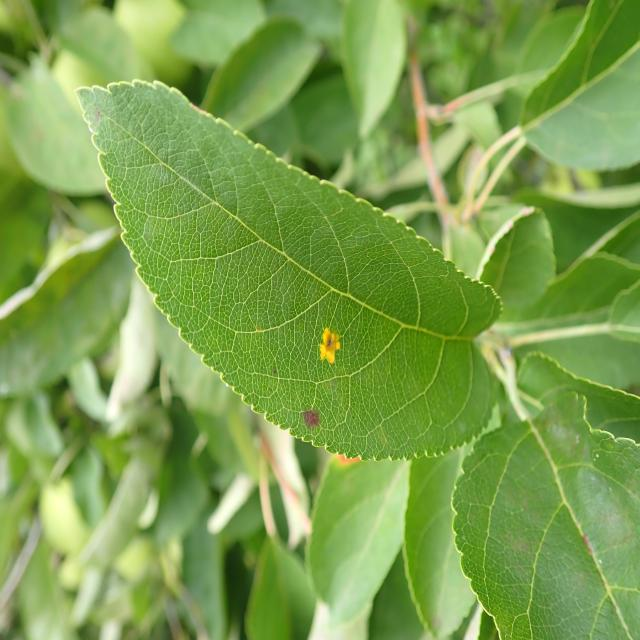rust: (74, 77, 505, 464)
